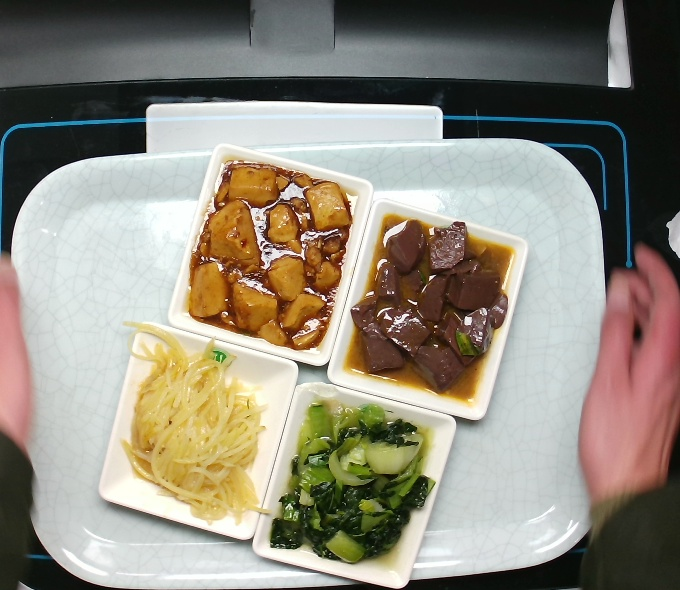wcq-MaPoDouFu: (180, 161, 357, 346)
wcq-NiuXue: (356, 228, 511, 401)
wcq-TuDouSi: (126, 349, 271, 515)
wcq-YouDongCai: (274, 403, 429, 562)
